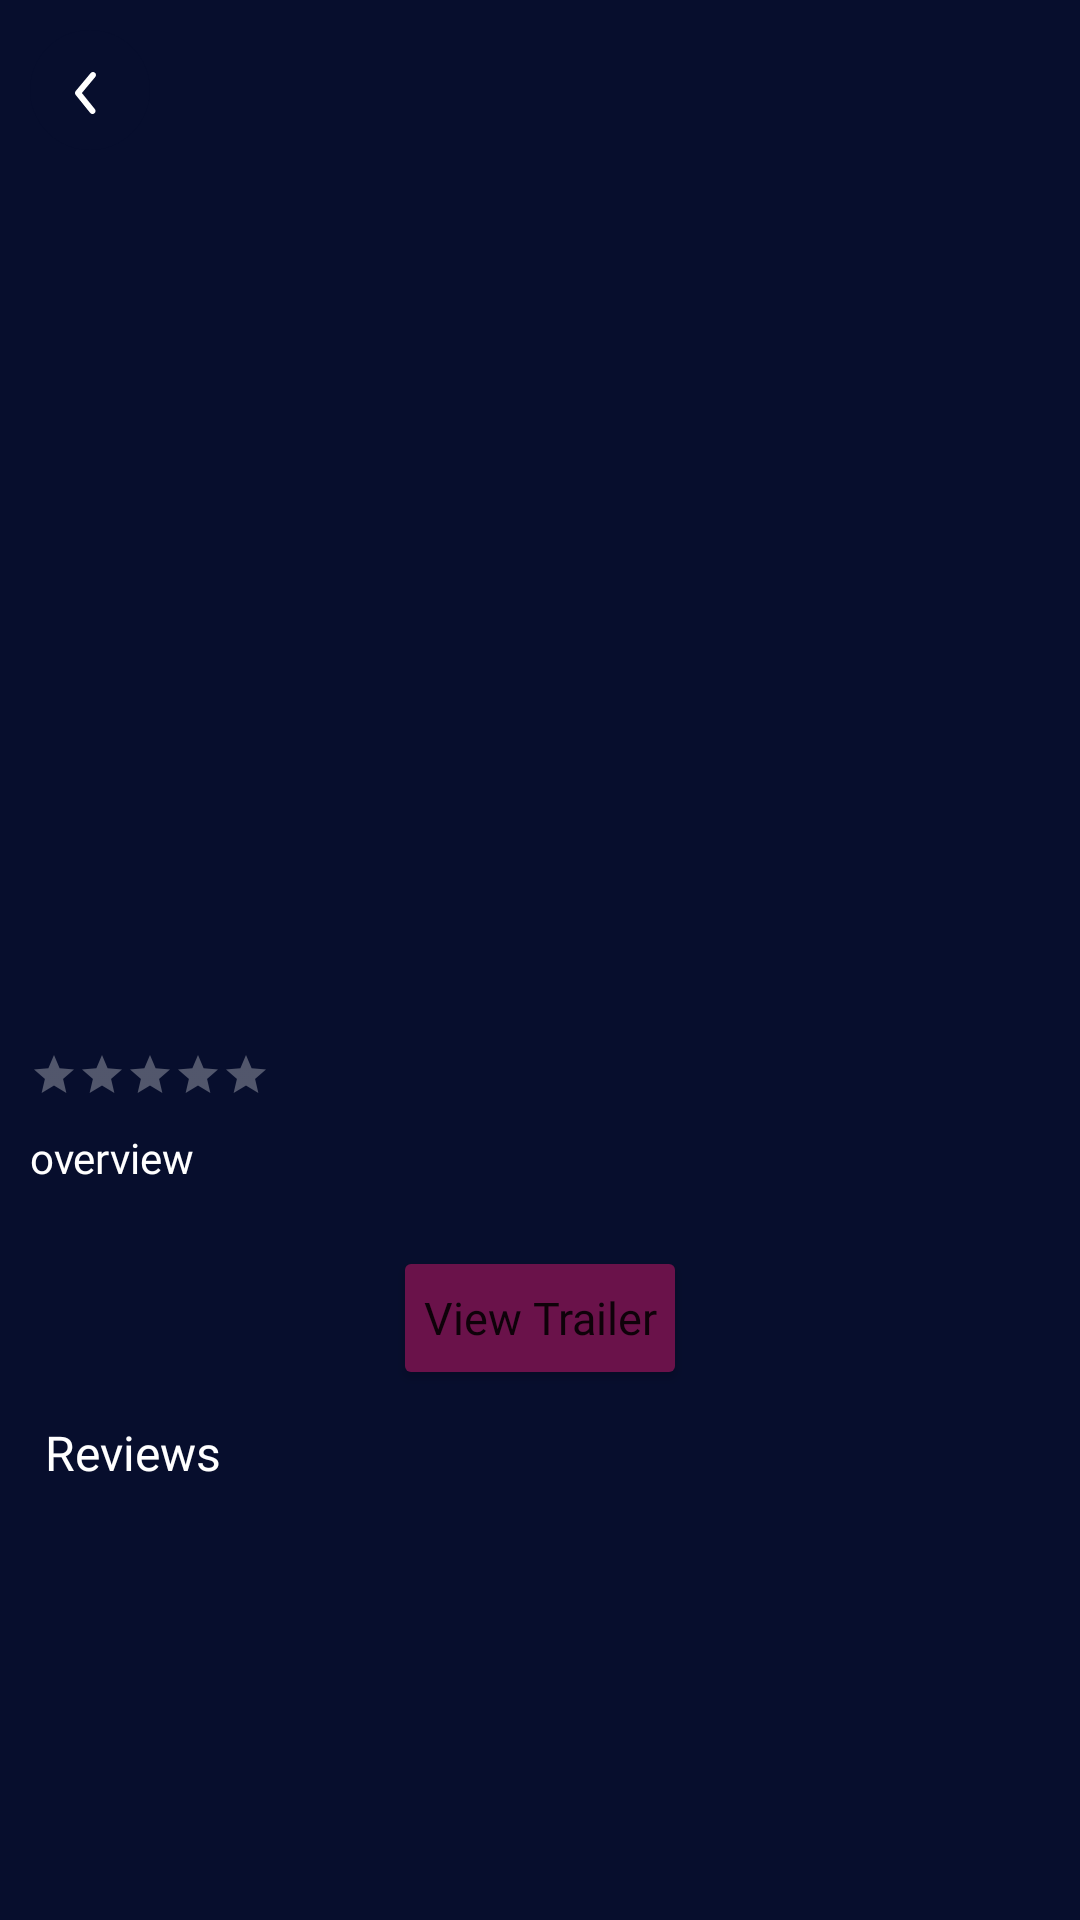

Screen size 1080px x 1920px. Icon name, then its center in pixels as point (x, y):
back: point (85, 93)
